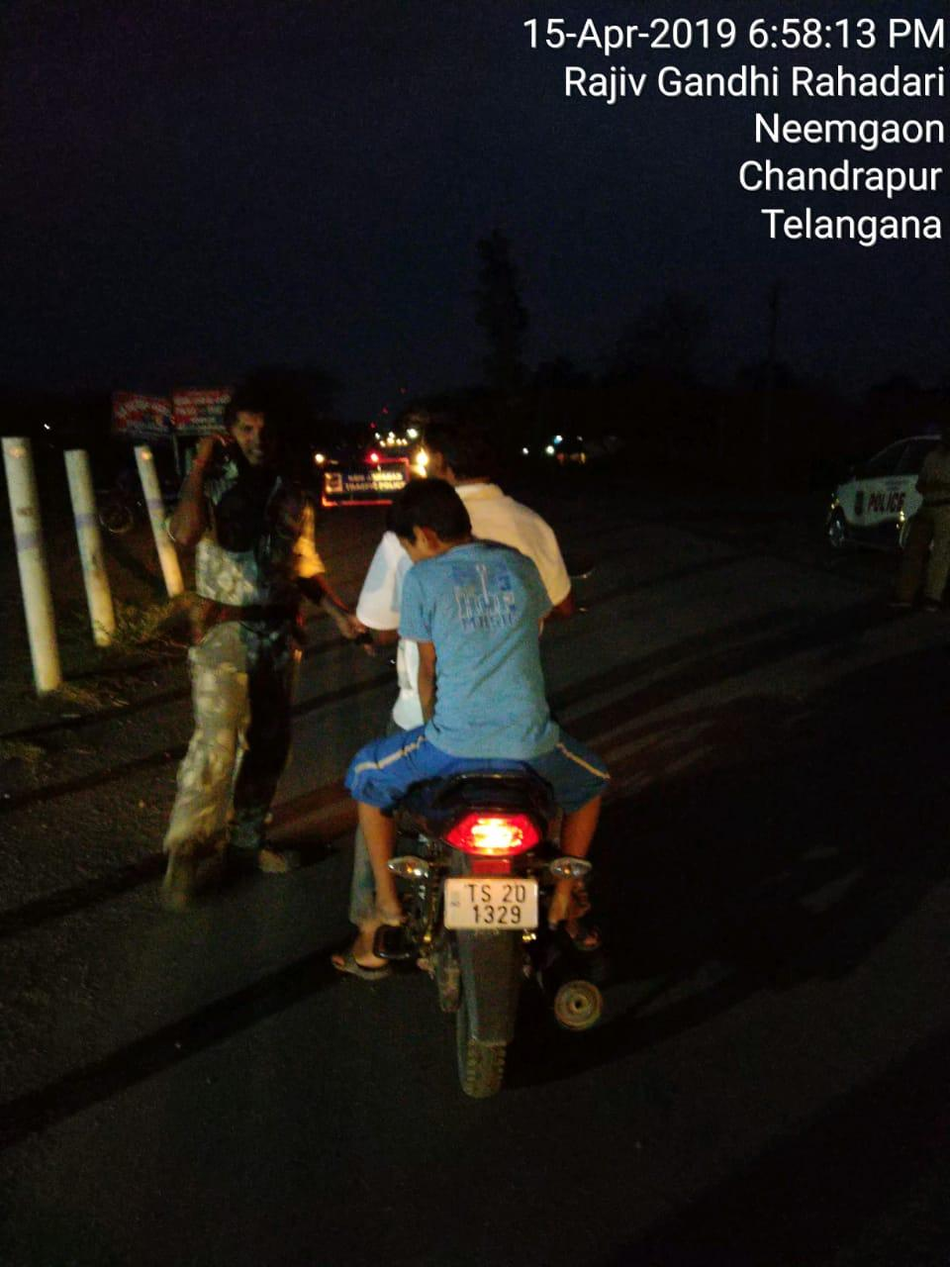plate: (435, 866, 562, 954)
